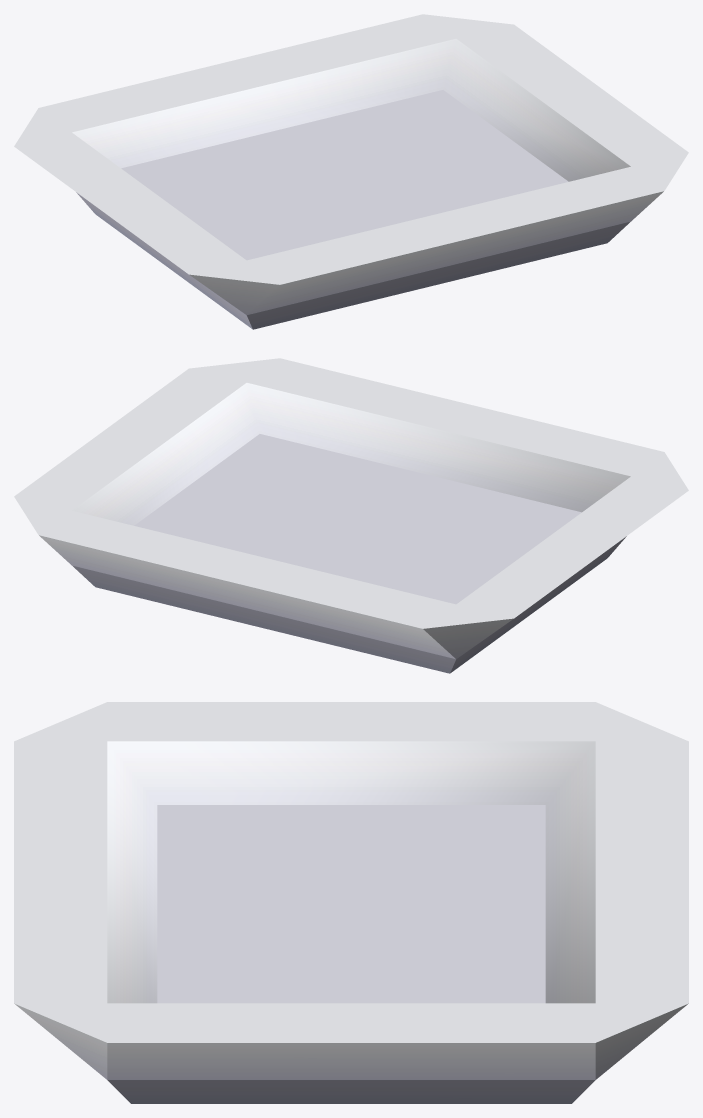
File: kenney-food-plate-rectangle.glb
3 views of the same model, one above another, from view 1: azimuth 30°, elevation 25°; view 2: azimuth 150°, elevation 25°; view 3: azimuth 270°, elevation 25° (orthographic). The views are drawn at different scales.
Visible parts, largest first — view 1: plate-rectangle; view 2: plate-rectangle; view 3: plate-rectangle.
Part boxes in pixels (bbox=[...]): plate-rectangle: bbox=[14, 14, 688, 329]; plate-rectangle: bbox=[14, 358, 688, 673]; plate-rectangle: bbox=[14, 702, 688, 1103].
Size of the model in its own units: 0.8586 by 0.13 by 0.7186.
1 material, 1 textured.
